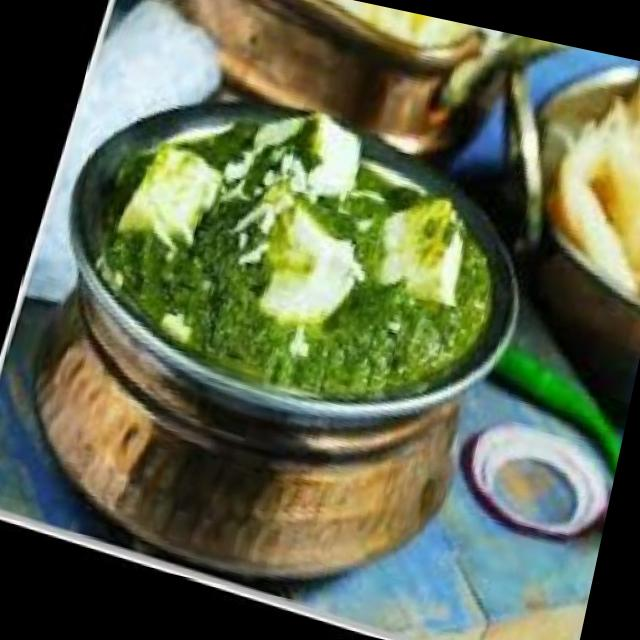palak_paneer: (59, 67, 528, 450)
